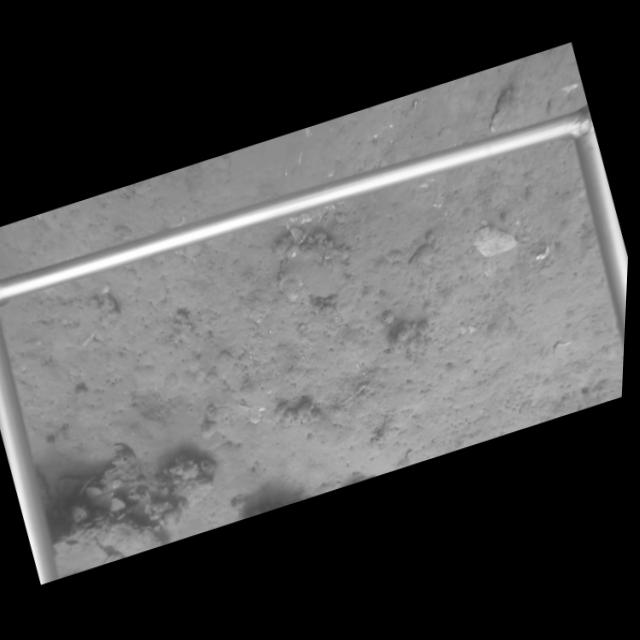Oyster-Closed: (47, 532, 109, 580), (95, 519, 167, 557)
Oyster-Indeterminate: (471, 224, 518, 258)
